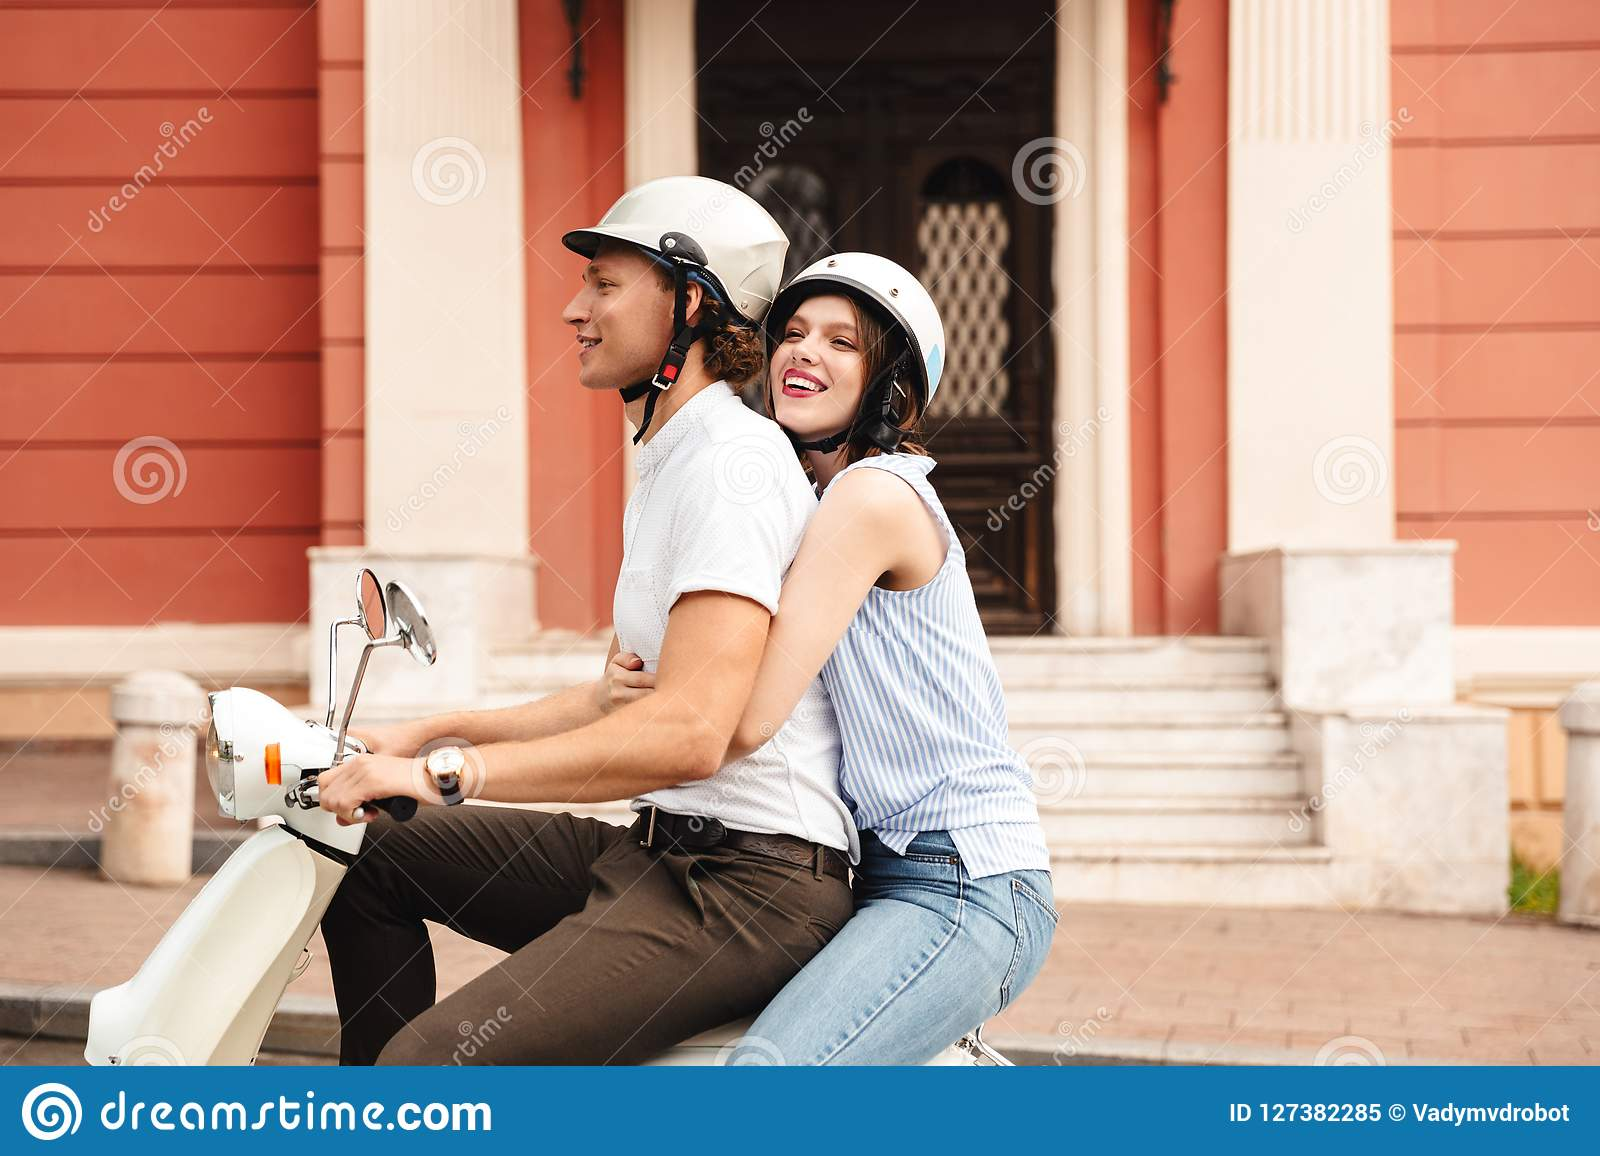helmet: (605, 180, 805, 310), (794, 255, 947, 407)
